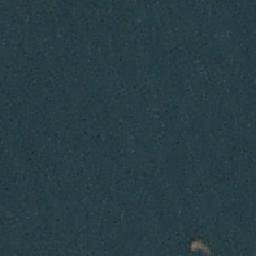debris: (188, 236, 213, 254)
